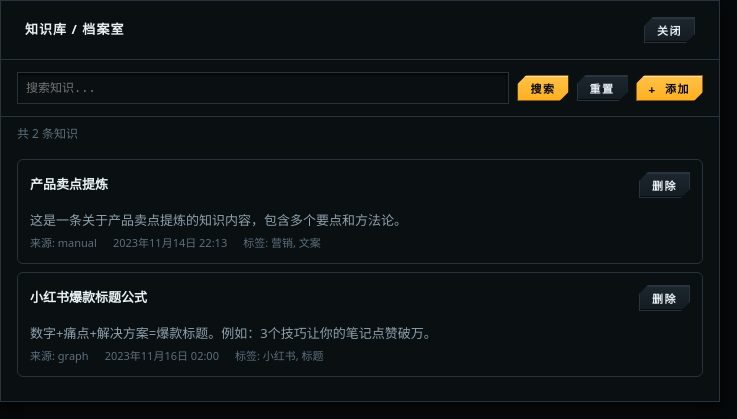
Scenario: KnowledgePanel › 空状态 › 搜索无结果时显示'没有匹配的知识。'
Expected: the heading "知识库 / 档案室" is shown, x1=25 y1=20 x2=124 y2=40
Expected: the text "共 2 条知识" is shown, x1=17 y1=125 x2=78 y2=142
In the field with placeholder "搜索知识...": (263, 88) x1=17 y1=72 x2=509 y2=104, type "不存在的关键词"
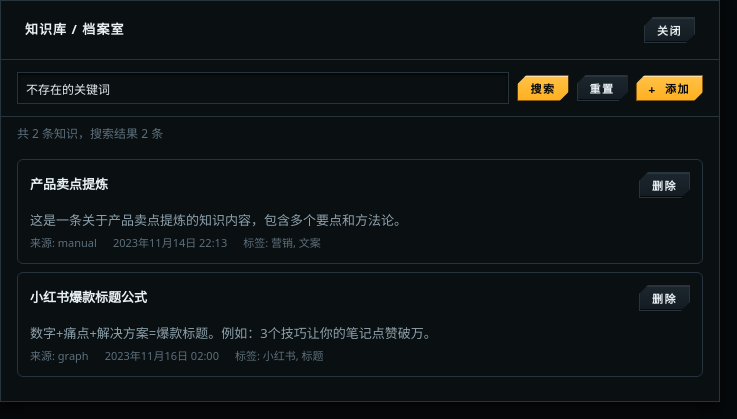
Click the button "搜索": (543, 88) x1=517 y1=75 x2=568 y2=101
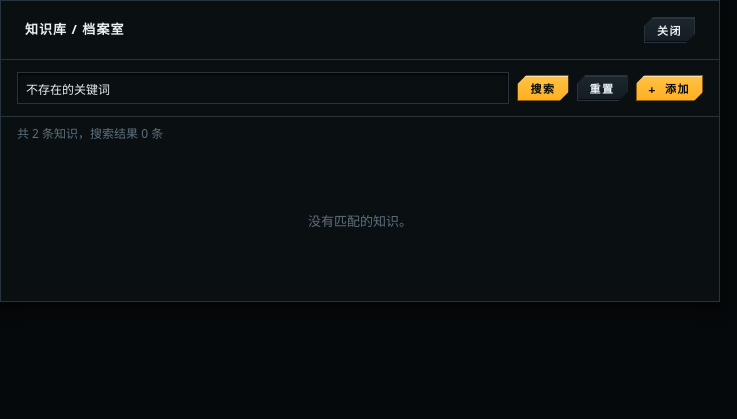
Now the text "没有匹配的知识。" is shown, box x1=308 y1=212 x2=412 y2=230
